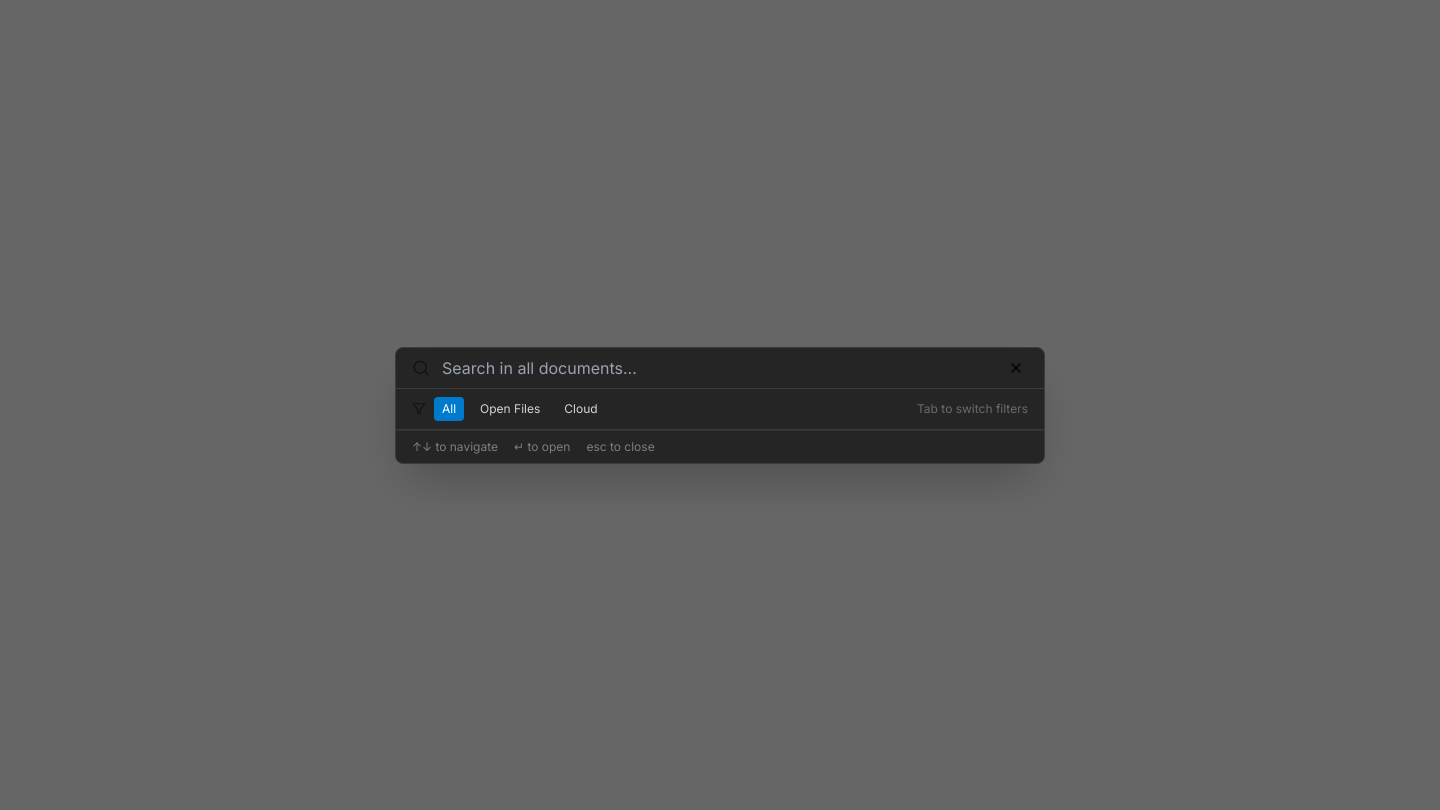
SearchModal › Search Functionality › should search in open tabs
Type "Hello" into the field with placeholder "Search in all documents..." at [719, 368], box top-left (442, 356), bottom-right (996, 380)
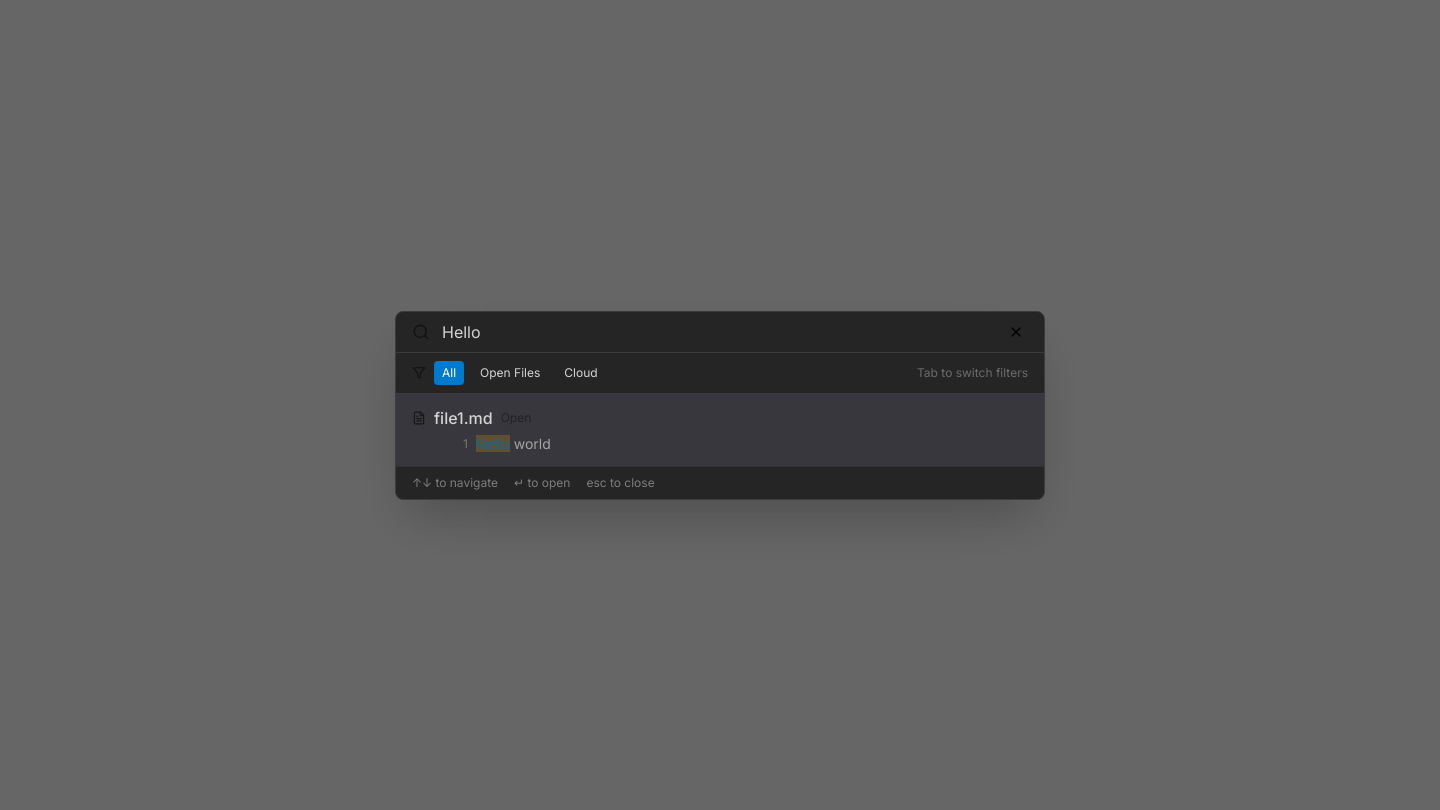
Expected: the text "file1.md" is shown, top-left (434, 406), bottom-right (493, 430)
